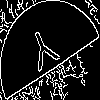Y: (25, 25, 64, 81)
